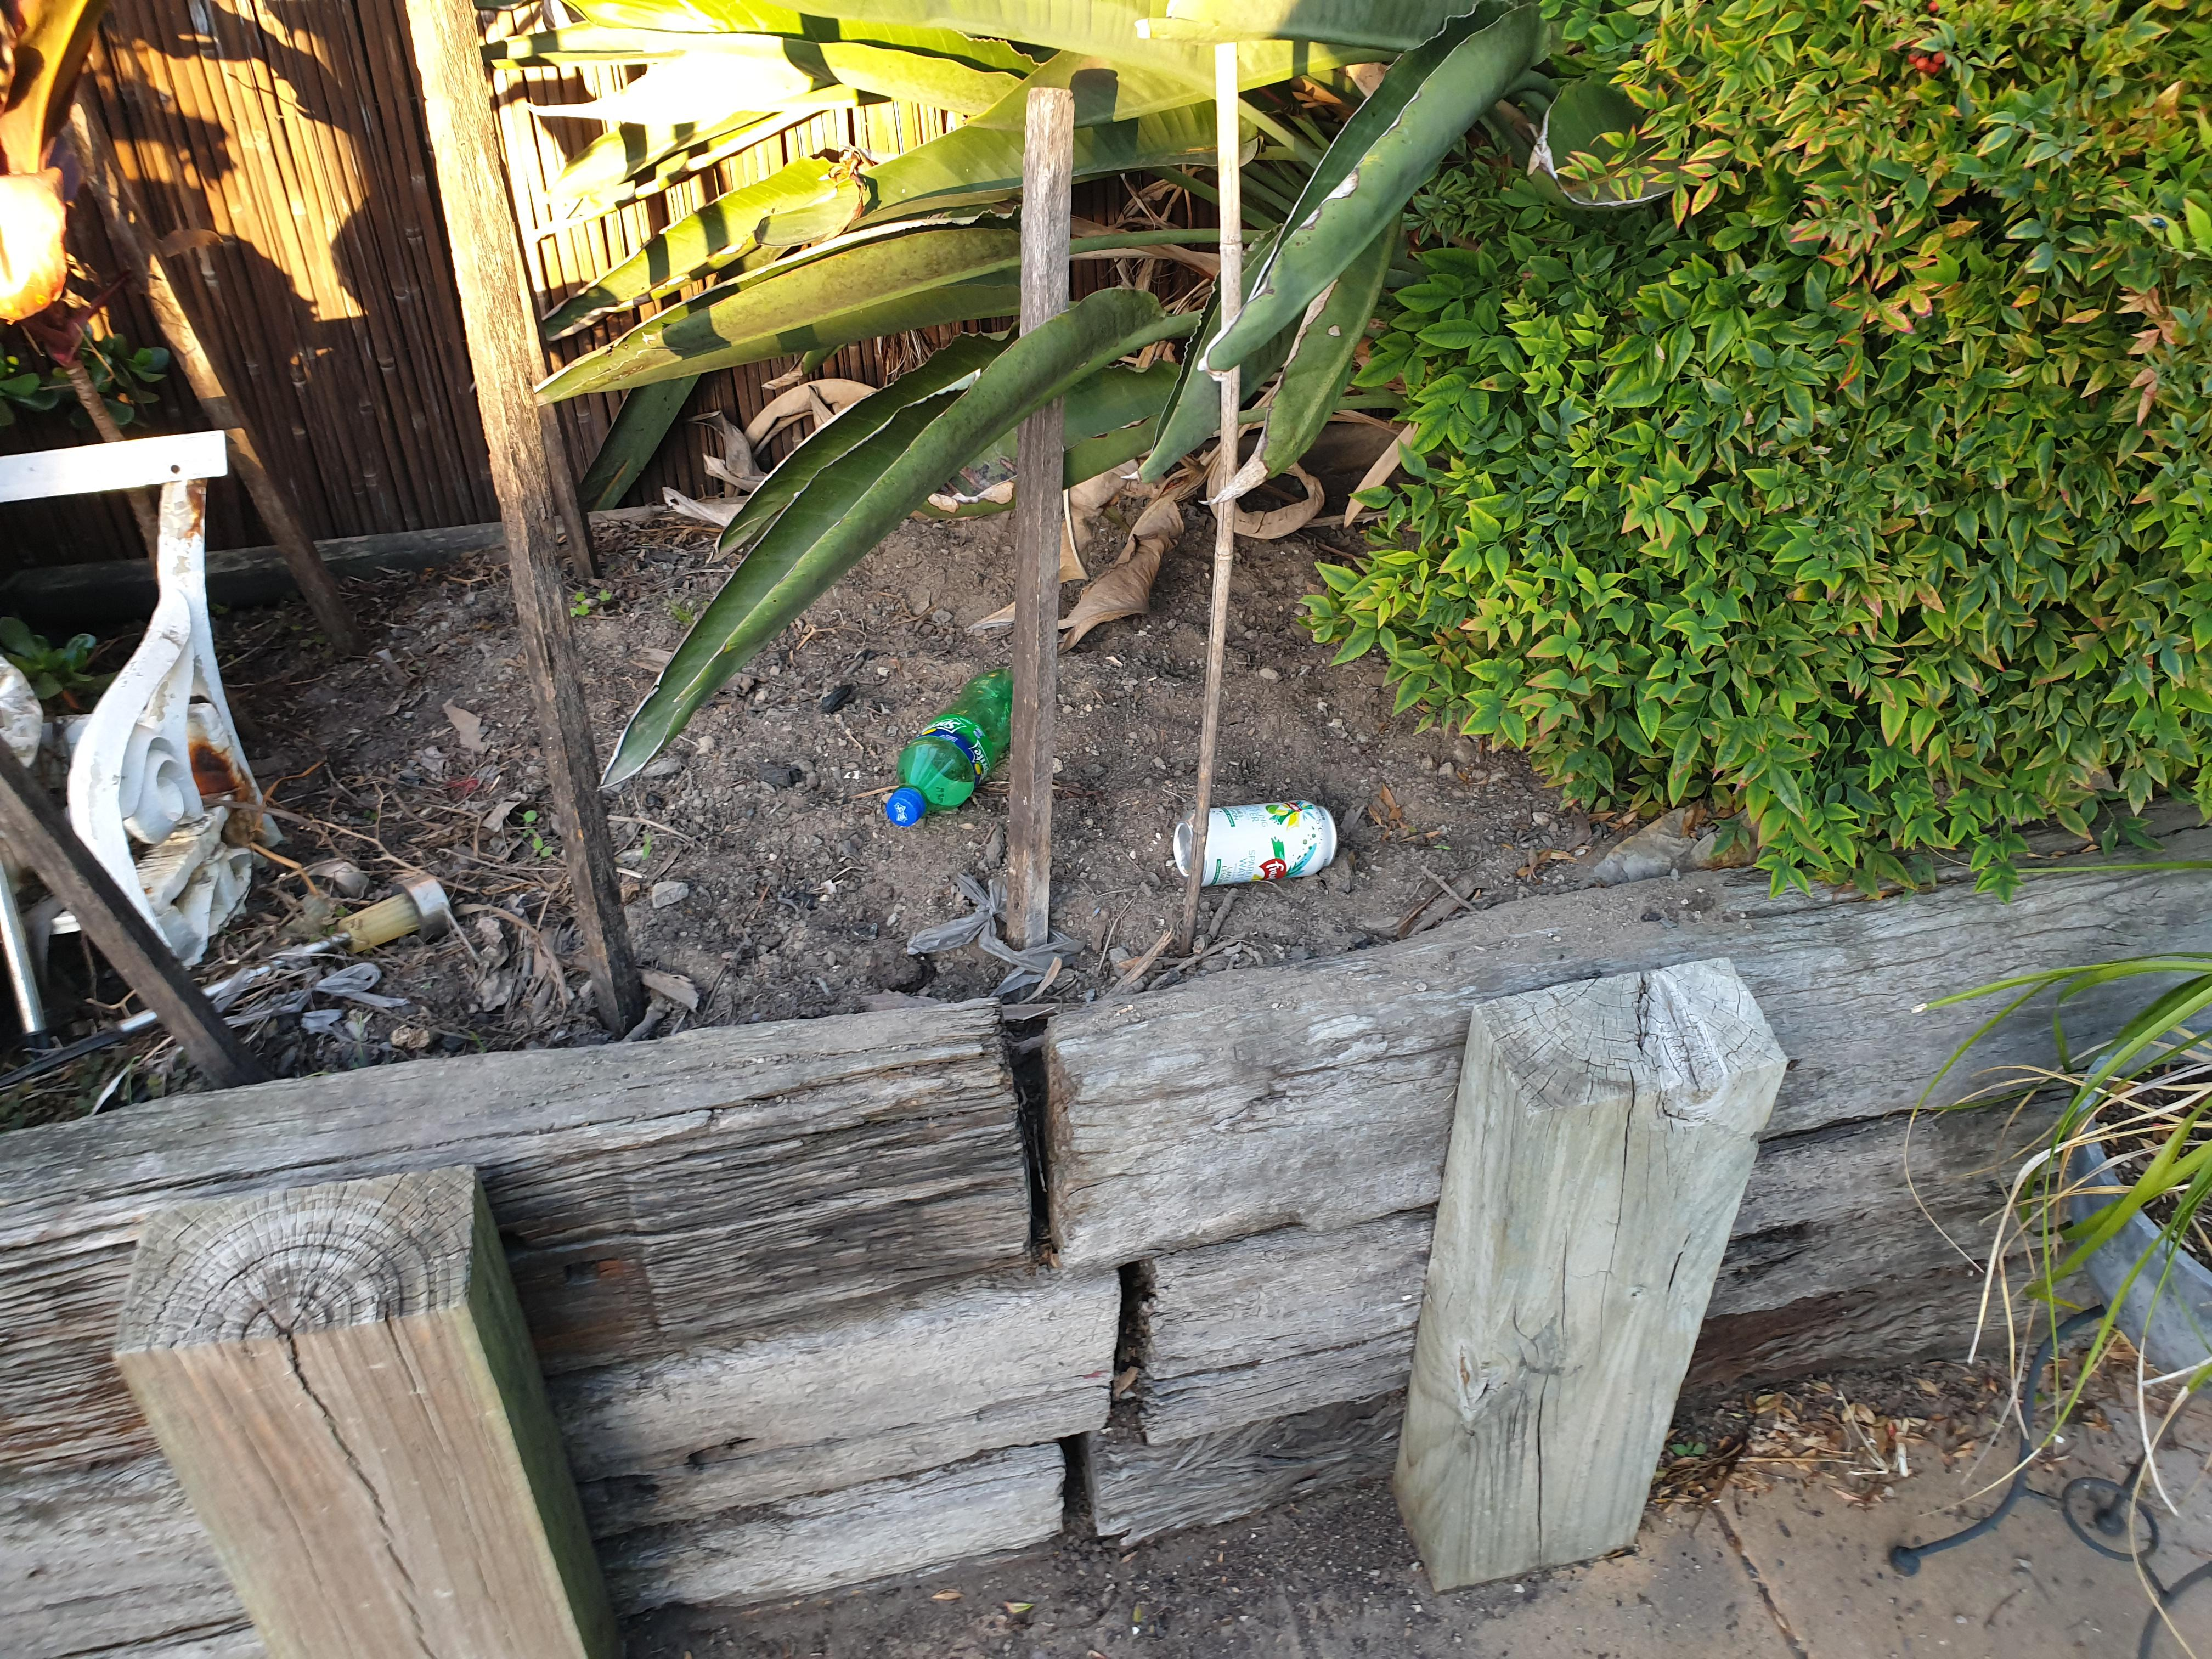Plastic Bottle: (885, 669, 1014, 826), (1172, 800, 1336, 885)
